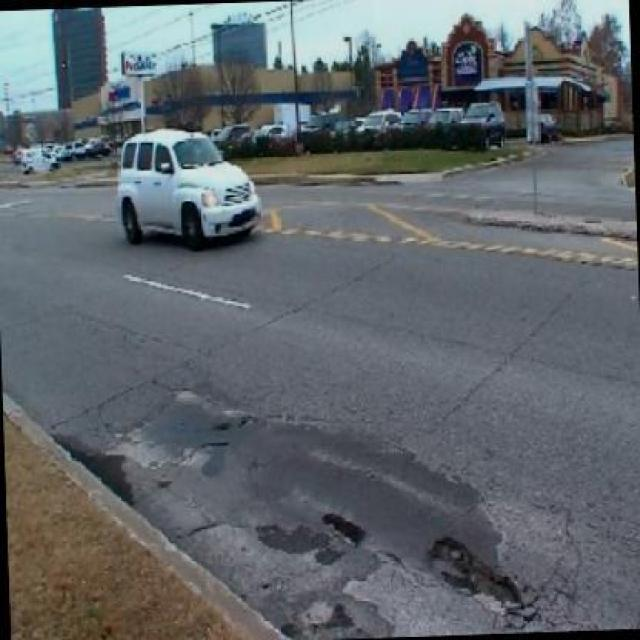Pothole: (421, 529, 529, 617), (315, 504, 375, 552)
